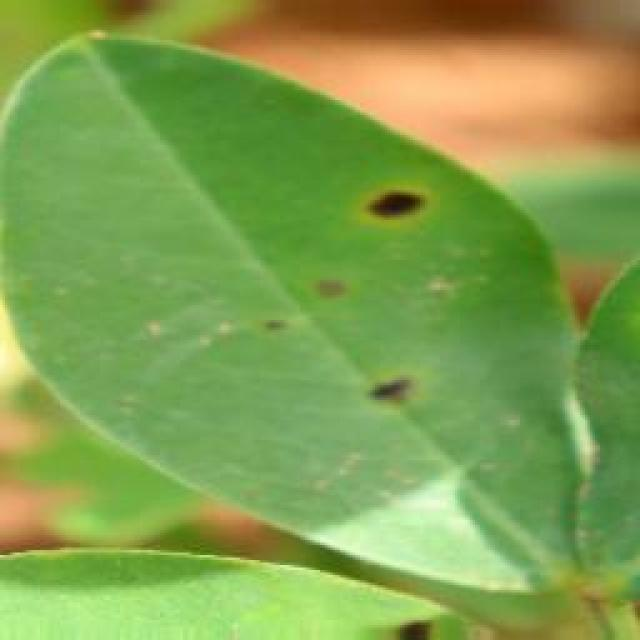Sigatoka: (244, 272, 356, 352), (362, 149, 432, 252), (344, 358, 419, 408)
